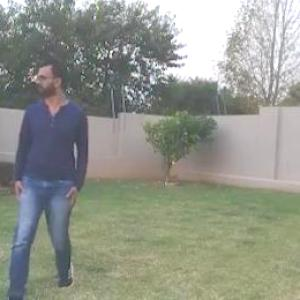follow: (9, 37, 90, 285)
